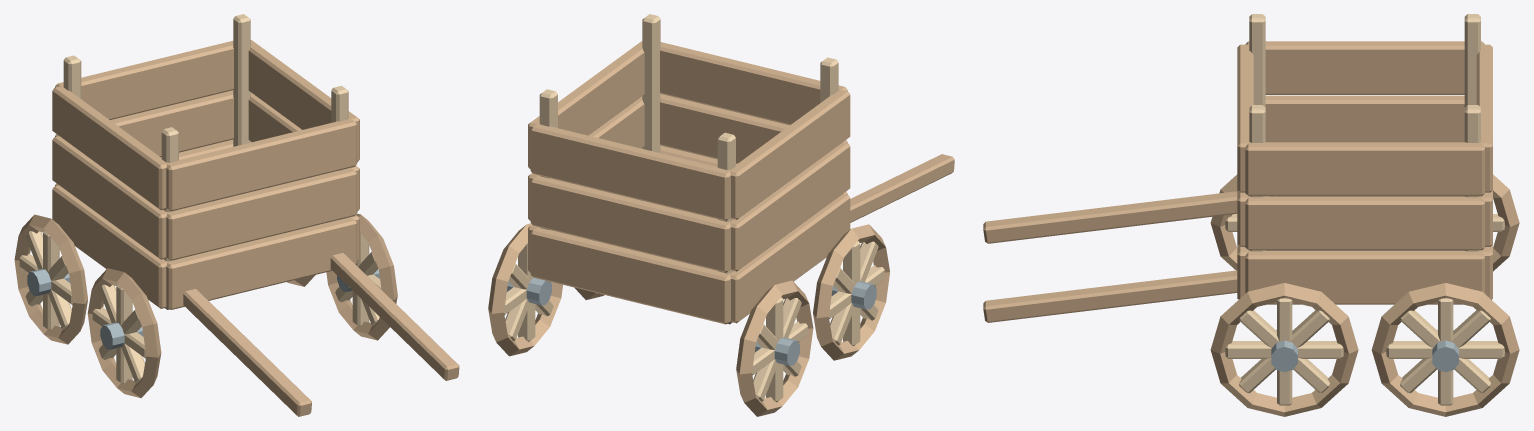
File: cart.fbx
3 renders of one model, left to right at view 1: azimuth 30°, elevation 25°; view 2: azimuth 150°, elevation 25°; view 3: azimuth 270°, elevation 25°, orthographic. The views are drawn at different scales.
Parts seen in each view (by area): view 1: cart_mesh; view 2: cart_mesh; view 3: cart_mesh.
Boxes of the visible parts, left/top/right/bottom form: cart_mesh: left=14, top=14, right=459, bottom=416; cart_mesh: left=488, top=14, right=954, bottom=416; cart_mesh: left=983, top=14, right=1519, bottom=416.
Bounding box in the file's own units: 1.59 × 1.48 × 2.46.
